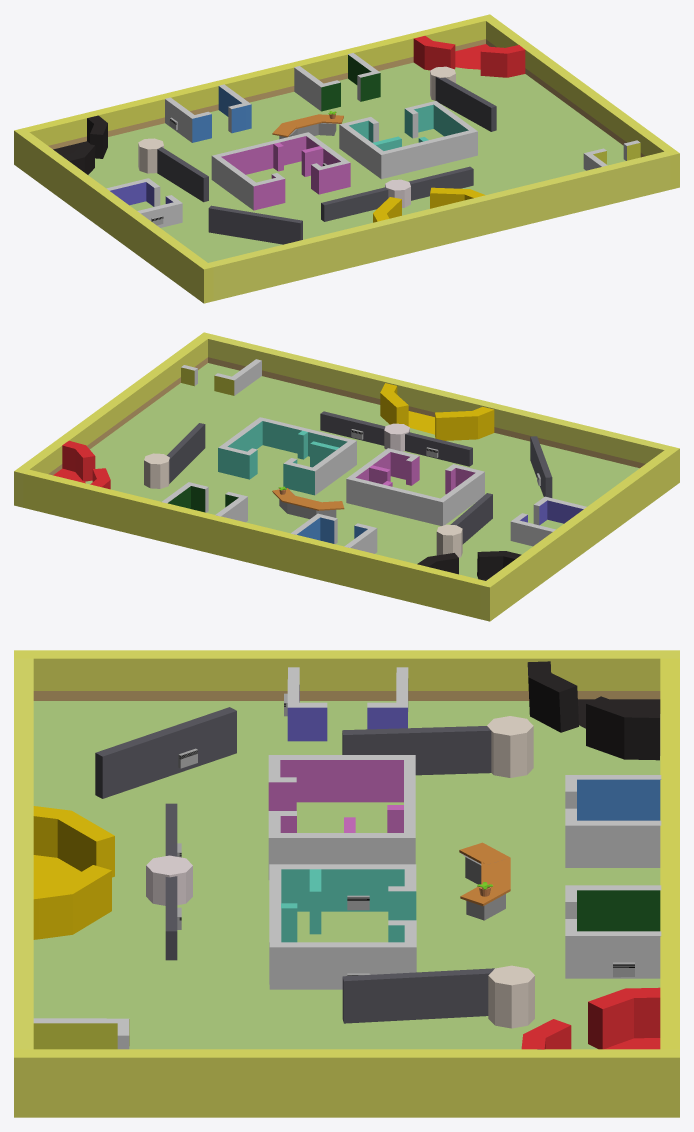
Rendered from Level1.fbx.
The picture shows the model from 3 angles, top to bottom: view 1: azimuth 30°, elevation 25°; view 2: azimuth 150°, elevation 25°; view 3: azimuth 270°, elevation 25°; orthographic projection. The views are drawn at different scales.
Visible parts, largest first — view 1: Floor, Cube, Cube.043, Cube.047, Cube.046, Cube.045, Cube.038, Cube.017, Cube.010, Cube.029, Cube.028, Cube.040 (+25 smaller); view 2: Floor, Cube.043, Cube, Cube.047, Cube.046, Cube.038, Cube.010, Cube.034, Cube.017, Cube.009, Cube.016, Cube.029 (+26 smaller); view 3: Floor, Cube.046, Cube.047, Cube, Cube.043, Cube.029, Cube.045, Cube.009, Cube.028, Cube.018, Cube.016, Cube.002 (+27 smaller).
Boxes of the visible parts, x1,y1,x2,y2 form: Floor: (88,62,625,262); Cube: (208,151,670,300); Cube.043: (24,17,485,149); Cube.047: (14,128,213,303); Cube.046: (480,14,679,189); Cube.045: (208,205,302,244); Cube.038: (321,166,473,221); Cube.017: (384,130,472,177); Cube.010: (218,133,306,174); Cube.029: (435,77,496,131); Cube.028: (157,147,208,202); Cube.040: (480,45,525,77); Floor: (85,363,639,578); Cube.043: (23,469,485,618); Cube: (208,335,669,468); Cube.047: (480,446,679,621); Cube.046: (14,332,213,507); Cube.038: (320,411,472,466); Cube.010: (352,478,440,524); Cube.034: (435,406,494,440); Cube.017: (262,418,350,456); Cube.009: (437,473,481,525); Cube.016: (313,439,356,492); Cube.029: (167,423,205,483); Floor: (33,701,660,1049); Cube.046: (14,1049,679,1117); Cube.047: (14,650,679,700); Cube: (14,658,33,1049); Cube.043: (660,658,679,1049); Cube.029: (342,968,494,1023); Cube.045: (95,707,236,798); Cube.009: (280,755,415,802); Cube.028: (342,726,491,775); Cube.018: (269,942,404,989); Cube.016: (269,864,404,911); Cube.002: (565,820,661,867).
Bounding box in the file's own units: 4114 × 286 × 2844.
